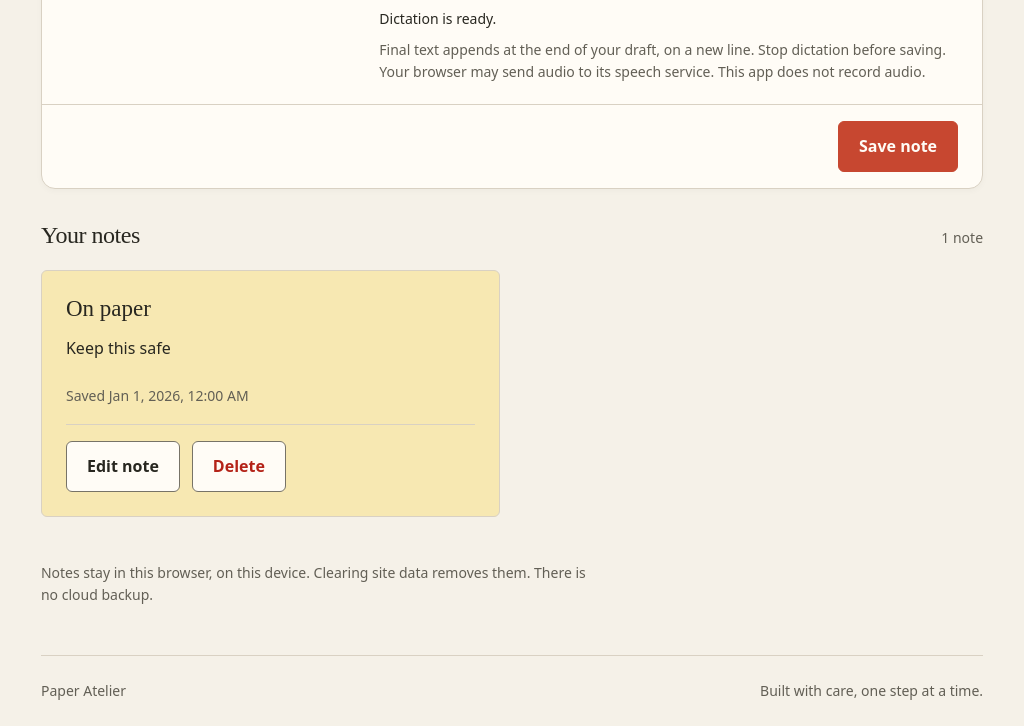
Test: Cancel unchanged closes without warning and restores opener focus
The width and height of the screenshot is (1024, 726).
(page scrolled)
Click the button with aria-label "Edit note: On paper". click: (123, 466)
box: [66,441,180,492]
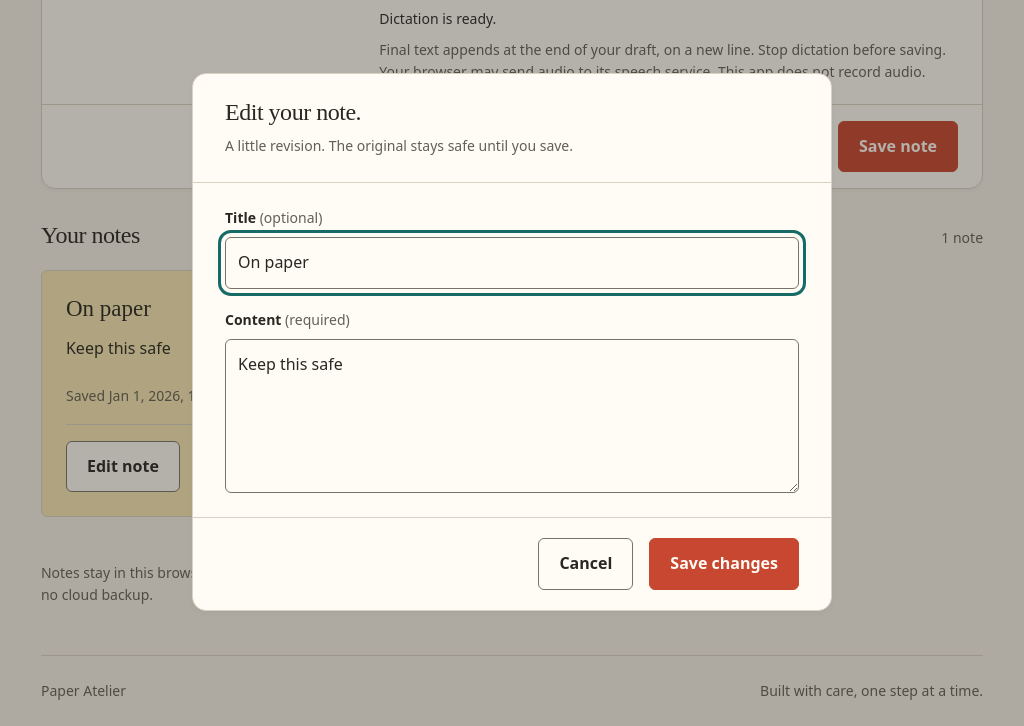
Click the button "Cancel". click: (586, 564)
box: [538,538,633,590]
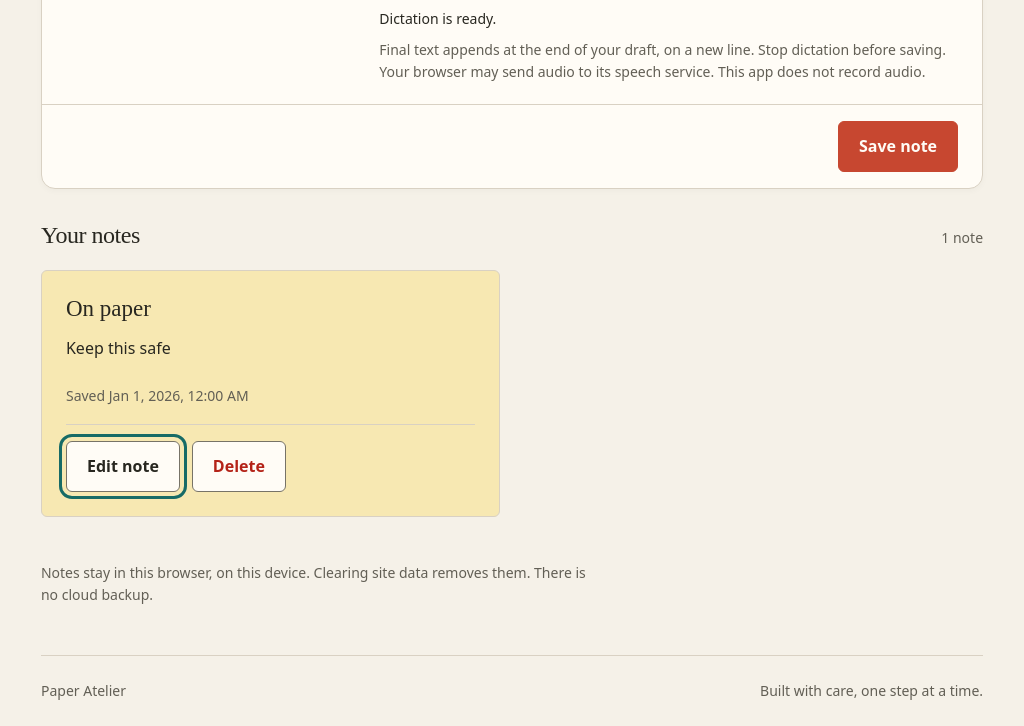
Now the dialog is gone
